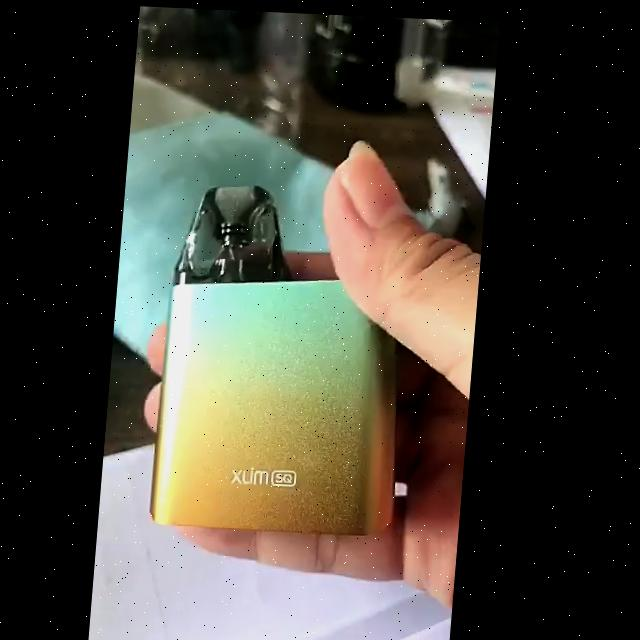vape: (160, 181, 420, 533)
